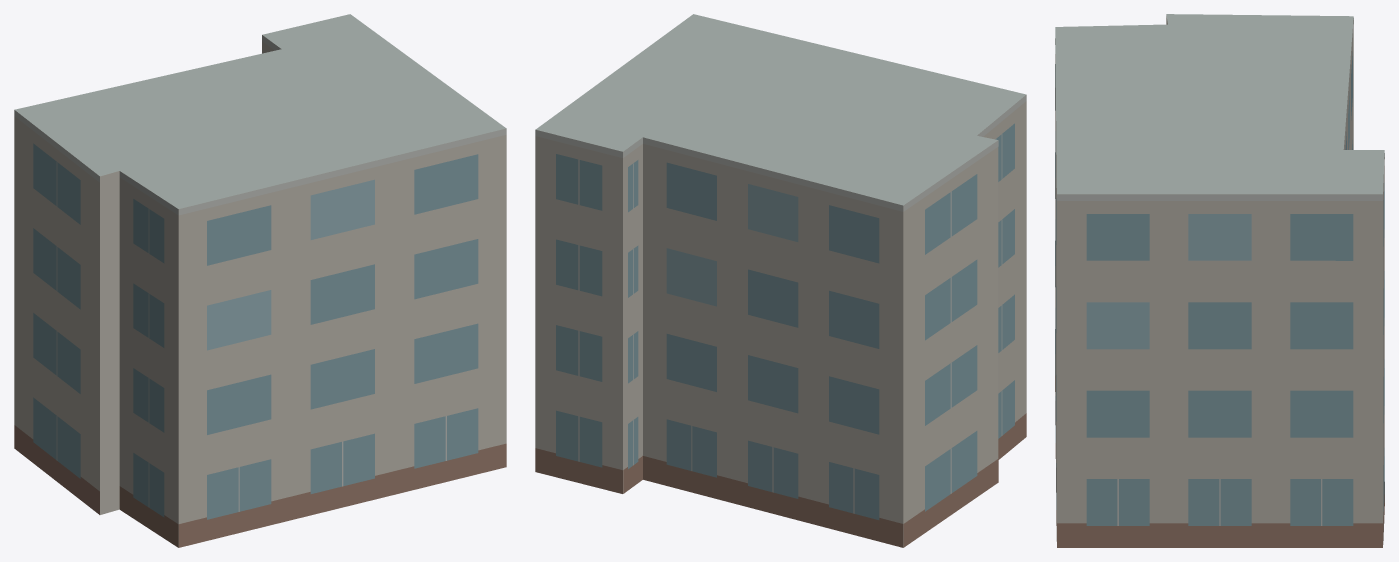
File: survey-upis-32461510.glb
3 views of the same model, side by side, from view 1: azimuth 30°, elevation 25°; view 2: azimuth 150°, elevation 25°; view 3: azimuth 270°, elevation 25° (orthographic). The views are drawn at different scales.
Visible parts, largest first — view 1: survey-upis-32461510.tmp; view 2: survey-upis-32461510.tmp; view 3: survey-upis-32461510.tmp.
Boxes of the visible parts, box(x1,y1,x2,y2) form: survey-upis-32461510.tmp: box(14, 14, 506, 547); survey-upis-32461510.tmp: box(535, 14, 1026, 547); survey-upis-32461510.tmp: box(1055, 14, 1384, 547).
Size of the model in its own units: 14.35 by 13.1 by 11.08.
